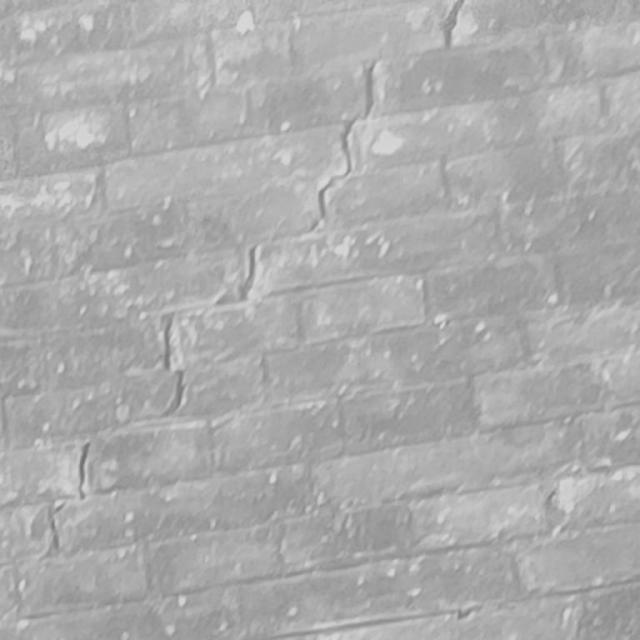crack: (36, 1, 462, 564)
